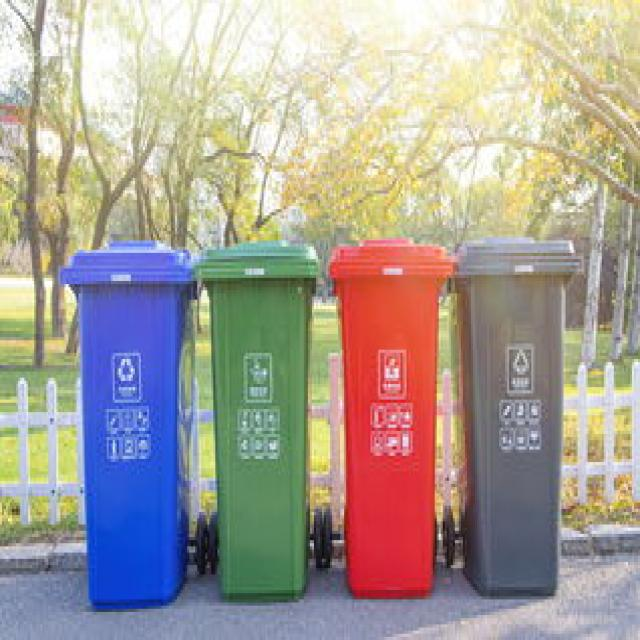garbage_bin: (59, 240, 198, 609), (446, 231, 580, 593), (324, 234, 455, 596), (193, 240, 318, 600)
